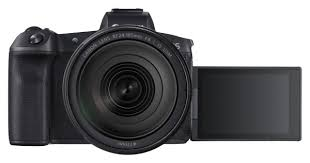camera: (9, 13, 196, 153)
